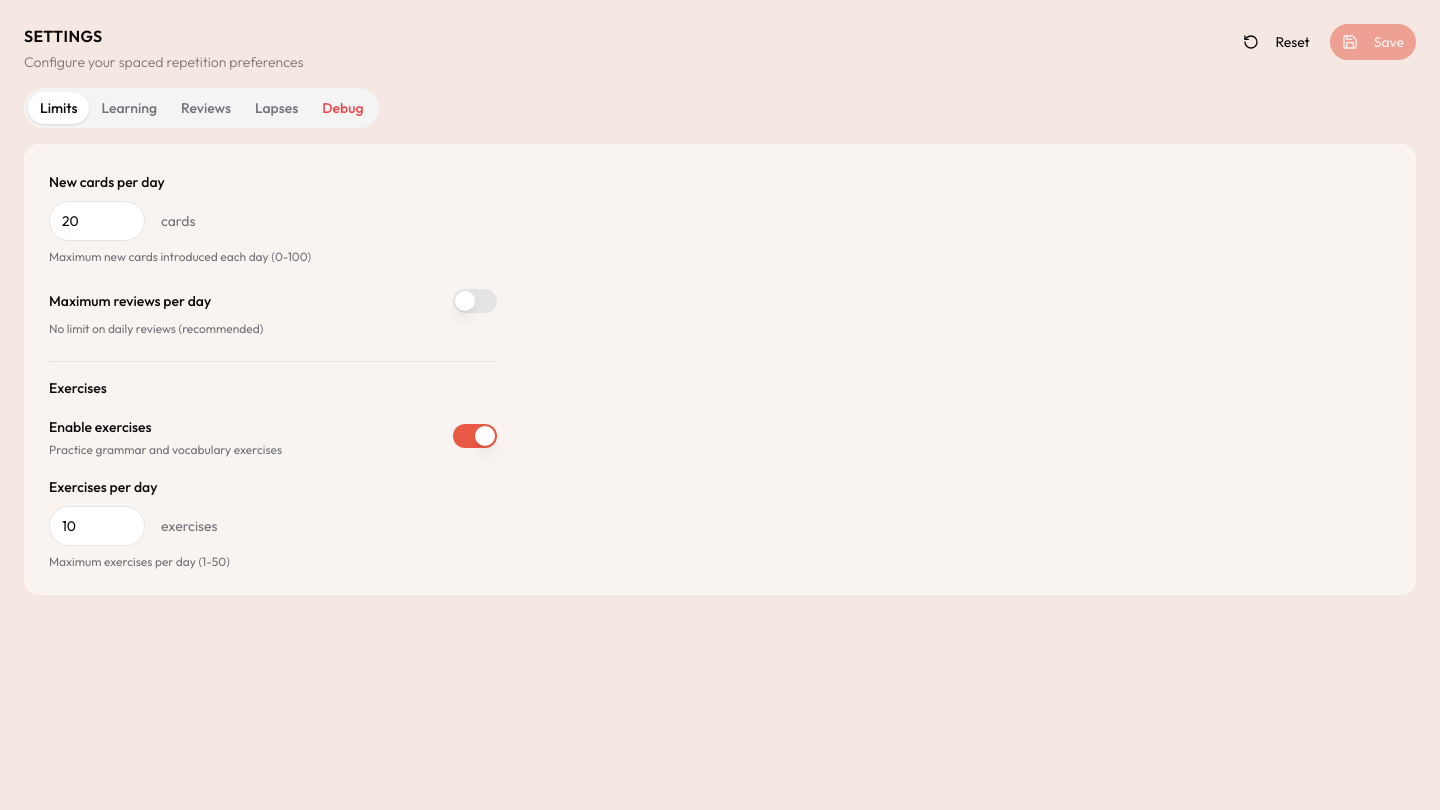
Test case: SettingsPage › SRS settings › enables max reviews input when toggle is switched on
Note: Click toggle
Click the switch named "maximum reviews per day" in the row of "Maximum reviews per day" at (475, 301), box [453,289,497,313]
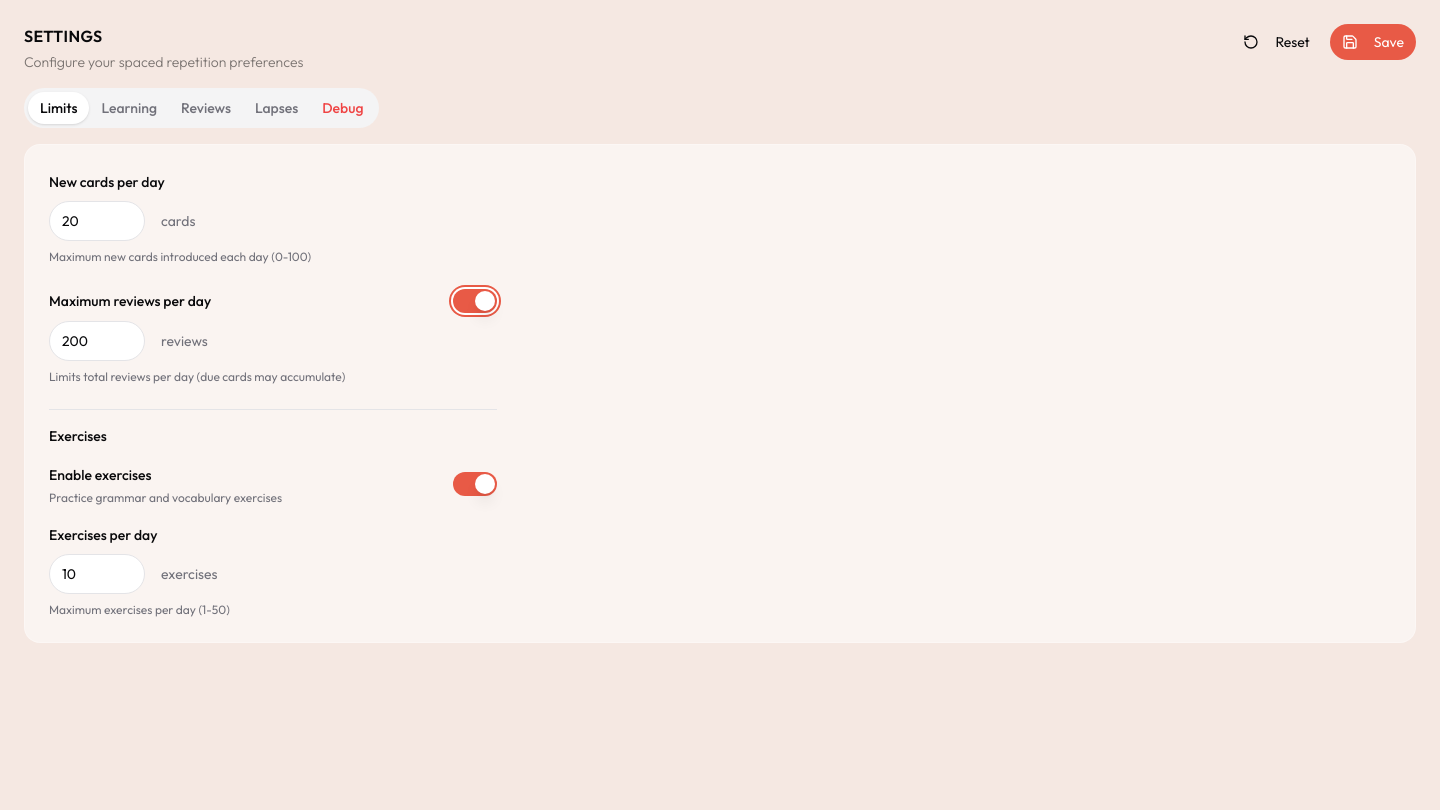
Now the number field with id "max-reviews-per-day" holds "200", box [49,321,145,361]
